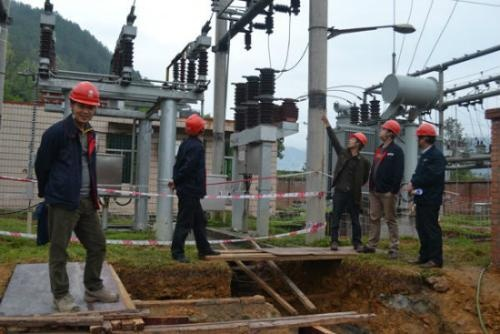red: (66, 79, 100, 125), (415, 119, 438, 149), (376, 117, 401, 143), (184, 113, 207, 140), (346, 129, 367, 154)
